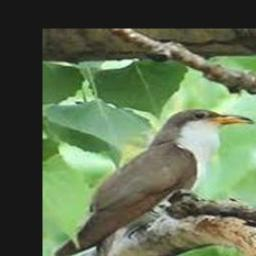Cuckoo: (55, 109, 256, 256)
